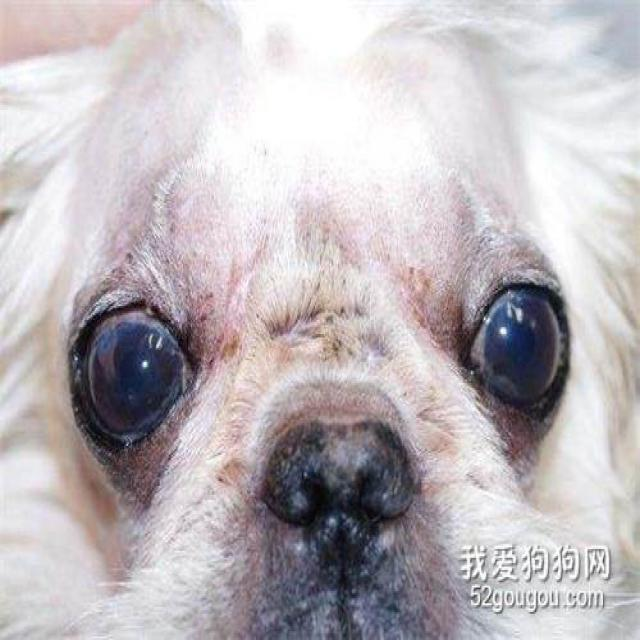eye: (65, 300, 202, 459), (459, 266, 578, 421)
